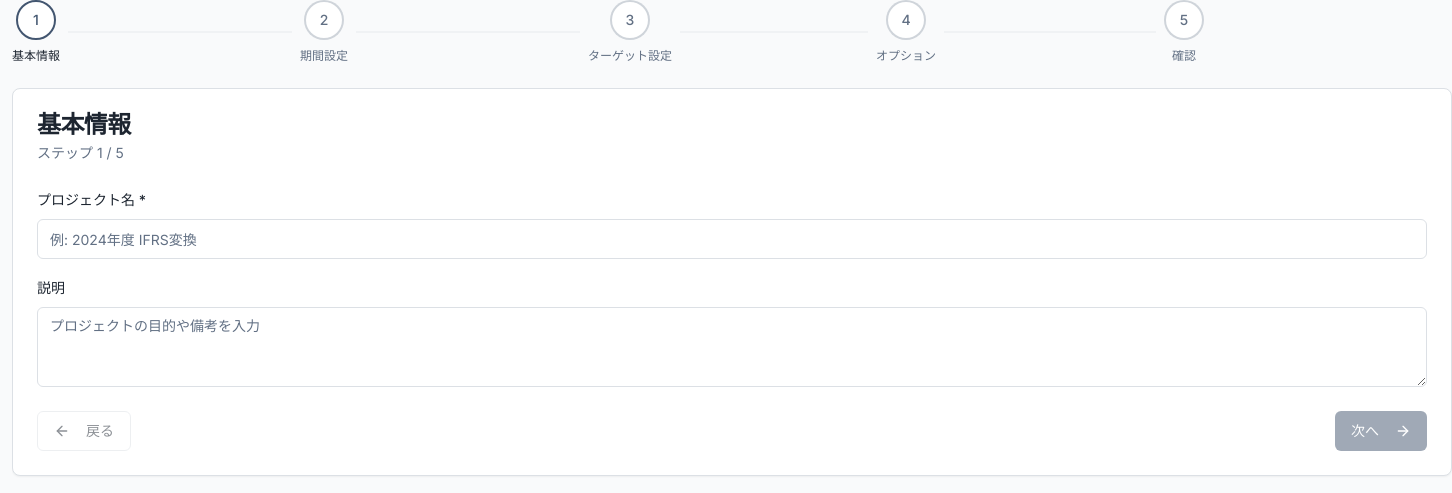
ProjectWizard — step 0 validation gate (name) › keeps the name after navigating forward and back
This screenshot has width=1452, height=493.
In the field with placeholder "例: 2024年度 IFRS変換": (732, 239) x1=37 y1=219 x2=1427 y2=259, type "永続プロジェクト"
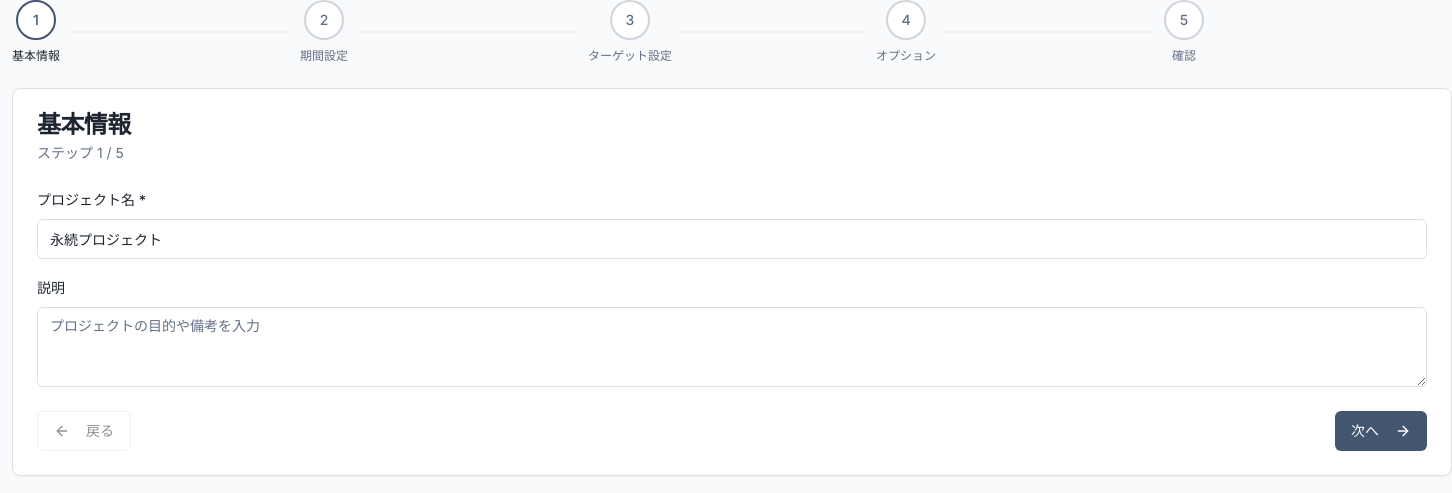
Click the button "次へ": click(1381, 431) x1=1335 y1=411 x2=1427 y2=451
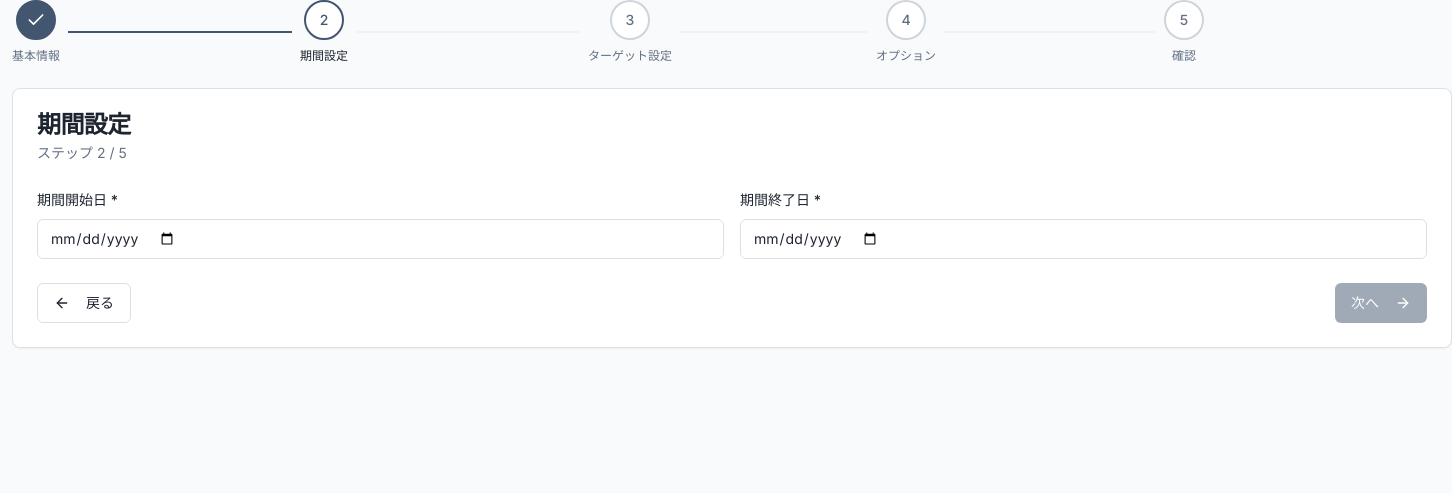
Expected: the text "ステップ 2 / 5" is shown, x1=37 y1=144 x2=127 y2=161
Click the button "戻る": click(84, 303) x1=37 y1=283 x2=131 y2=323
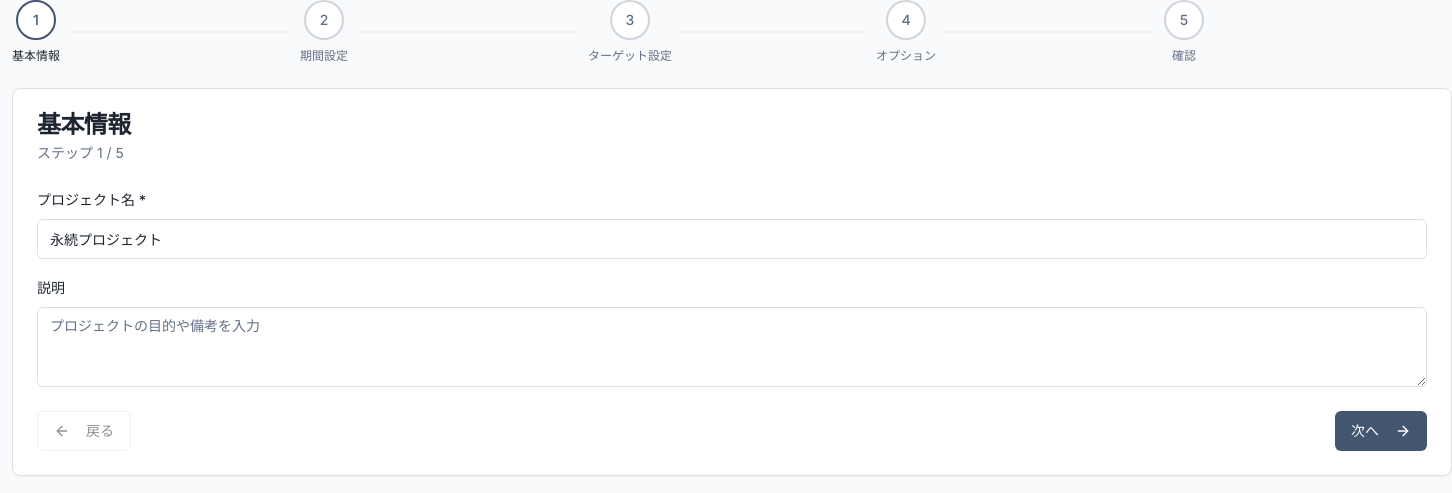
Expected: the text "ステップ 1 / 5" is shown, x1=37 y1=144 x2=124 y2=161
Expected: the field with placeholder "例: 2024年度 IFRS変換" holds "永続プロジェクト", x1=37 y1=219 x2=1427 y2=259
